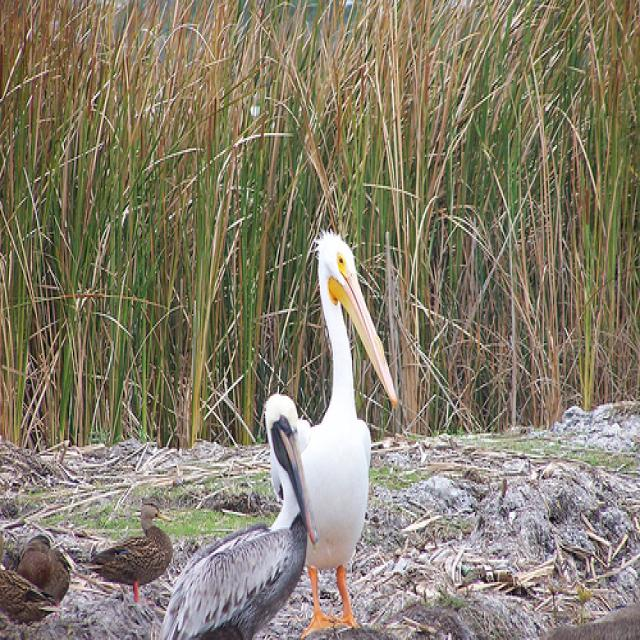bird: (274, 230, 395, 634), (161, 392, 313, 639), (91, 496, 174, 605), (16, 530, 70, 617), (1, 569, 57, 627)
